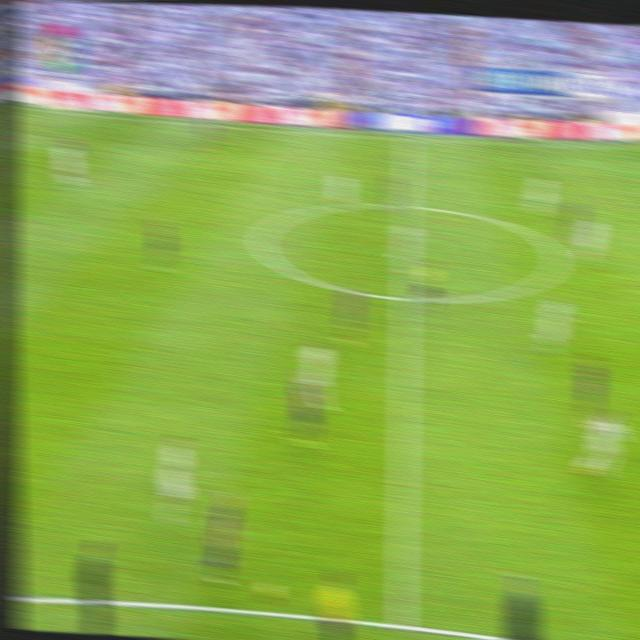halfcircle_bottom: (392, 281, 418, 317)
halfcircle_top: (395, 190, 418, 220)
midline_bottom_intersection: (386, 596, 416, 634)
midline_top_intersection: (397, 129, 418, 149)
